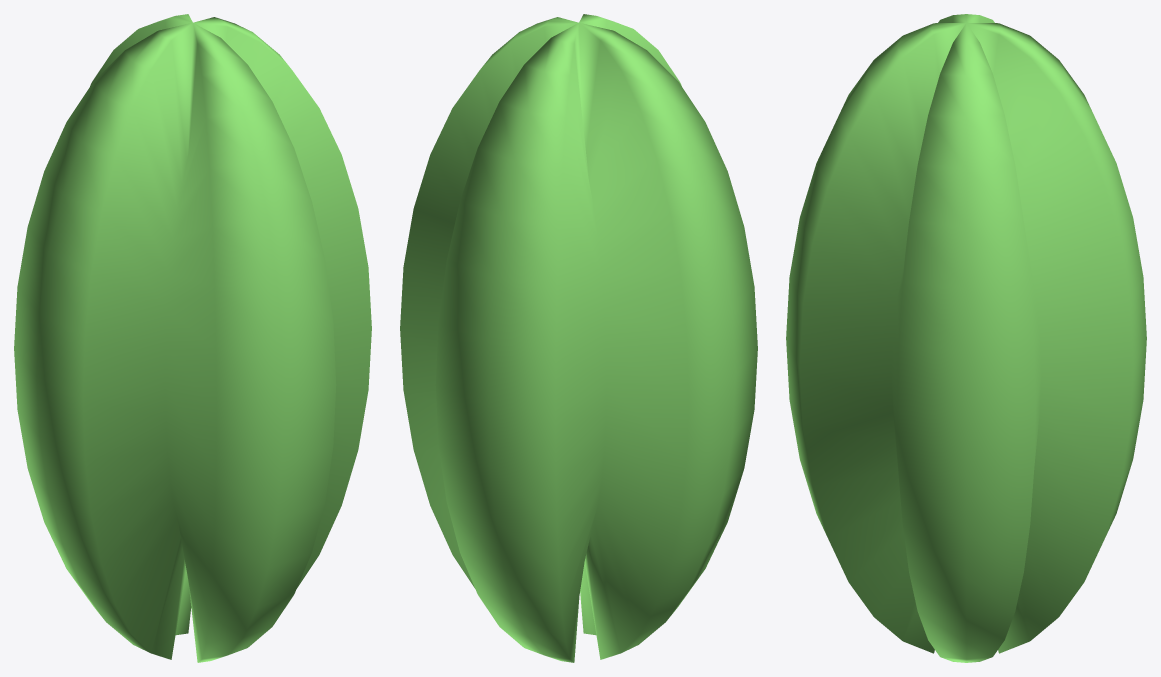
The model's file is plant.glb.
3 views of the same model, side by side, from view 1: azimuth 30°, elevation 25°; view 2: azimuth 150°, elevation 25°; view 3: azimuth 270°, elevation 25° (orthographic).
Parts seen in each view (by area): view 1: ShelfPlant; view 2: ShelfPlant; view 3: ShelfPlant.
Boxes of the visible parts, x1,y1,x2,y2 form: ShelfPlant: (14, 14, 371, 662); ShelfPlant: (400, 14, 757, 662); ShelfPlant: (786, 14, 1146, 662).
Bounding box in the file's own units: 0.1034 × 0.1977 × 0.1034.
